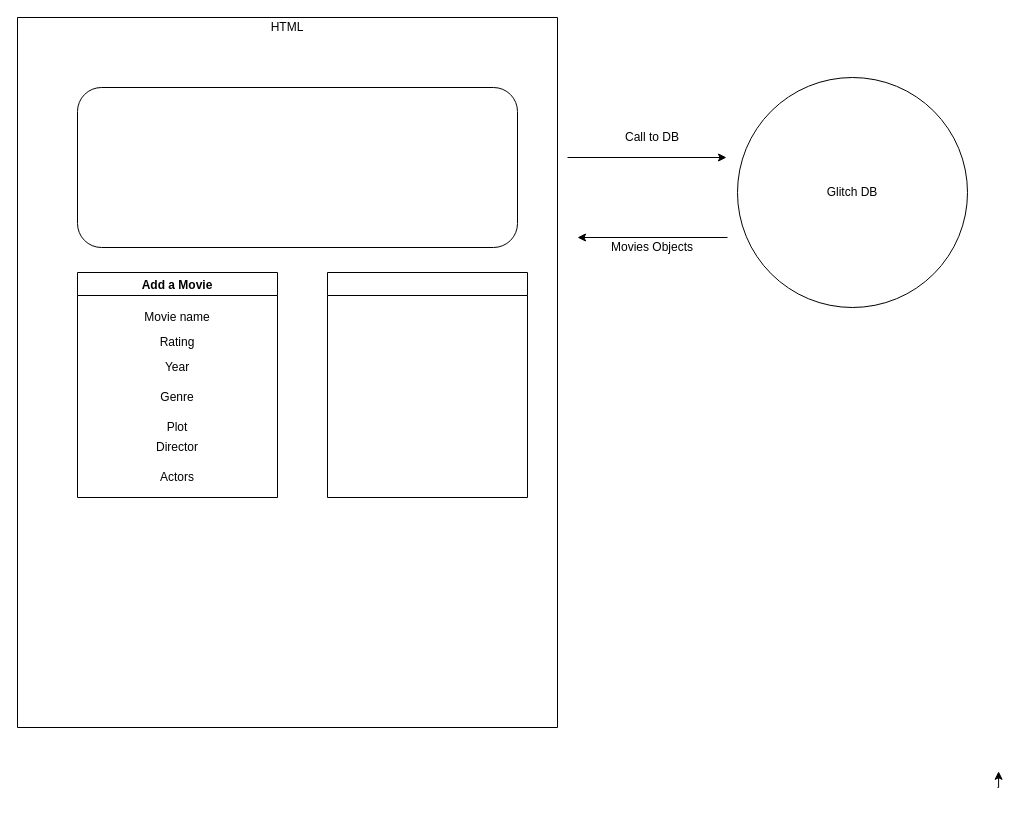
This 1025x813 diagram has some shape labels left out. The shapes that lost their labels are listed below. From the top down, each one's box as (x1, y1, x2, y2) in pixels, then its label:
(76, 86, 518, 248): Movie Objects Displayed
(326, 272, 528, 498): Edit a Movie
